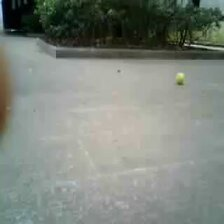tennis: (175, 73, 184, 85)
